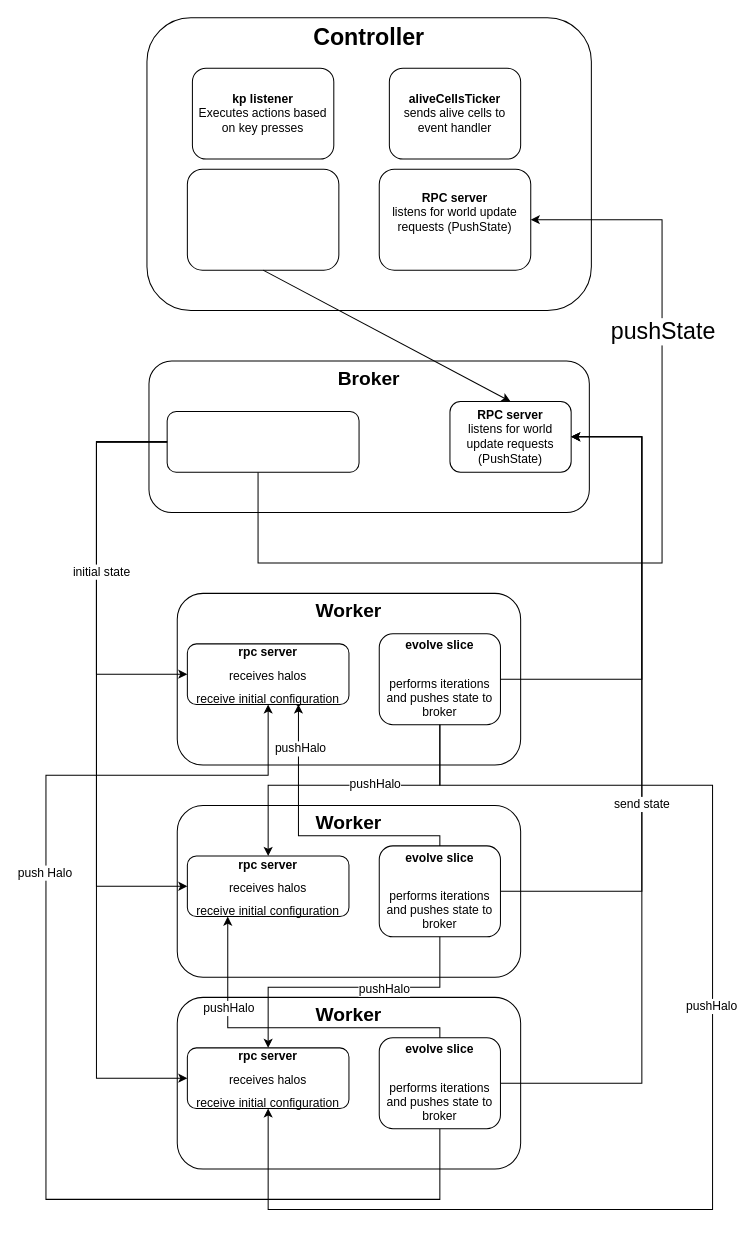
This 754x1235 diagram has some shape labels left out. The shapes that lost their labels are listed below. From the top down, each one's centre as x and y in pixels, then its label:
the point at 262,219: distributor connects to broker, sends work request (StartGol)
the point at 262,441: StartGol starts workers sends new state to controller
